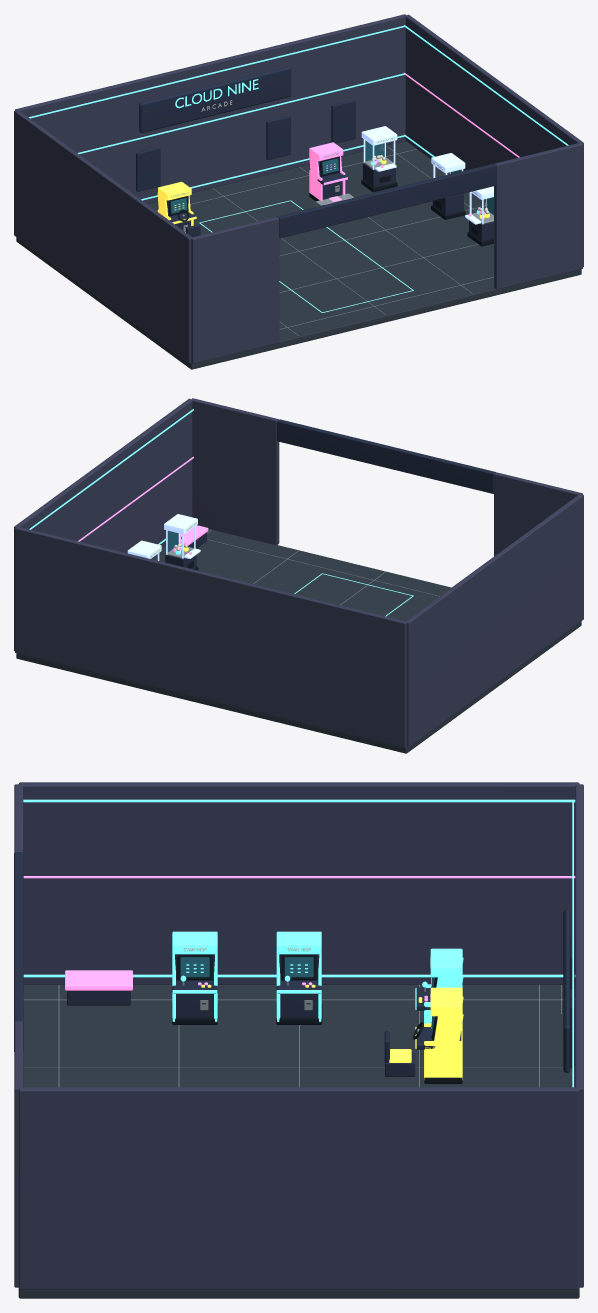
File: arcade-environment.glb
3 renders of one model, top to bottom at view 1: azimuth 30°, elevation 25°; view 2: azimuth 150°, elevation 25°; view 3: azimuth 270°, elevation 25°, orthographic. The views are drawn at different scales.
Visible parts, largest first — view 1: Back wall, Floor, Left wall, Right wall, Entrance return, Entrance return.001, Entrance header, Back sign panel, Acoustic wall panel.001, Acoustic wall panel.002, Acoustic wall panel.003, Back light strip.002 (+5 smaller); view 2: Back wall, Left wall, Floor, Right wall, Entrance return.001, Entrance header, Entrance return, Header.002; view 3: Right wall, Left wall, Floor, Back wall, Side light strip.004, Entrance header, Entrance return.001, Side light strip.002, Bench cushion, Side light strip, Side lower.003, Back sign panel (+10 smaller).
Boxes of the visible parts, x1,y1,x2,y2 form: Back wall: [15, 14, 406, 203]; Floor: [16, 141, 581, 369]; Left wall: [14, 110, 192, 363]; Right wall: [405, 14, 583, 267]; Entrance return: [191, 216, 279, 363]; Entrance return.001: [494, 143, 582, 289]; Entrance header: [277, 163, 496, 238]; Back sign panel: [139, 67, 291, 132]; Acoustic wall panel.001: [136, 147, 160, 191]; Acoustic wall panel.002: [266, 115, 290, 159]; Acoustic wall panel.003: [331, 99, 355, 143]; Back light strip.002: [29, 25, 404, 118]; Back wall: [15, 527, 406, 747]; Left wall: [405, 494, 583, 747]; Floor: [16, 529, 581, 753]; Right wall: [14, 398, 192, 651]; Entrance return.001: [191, 398, 279, 545]; Entrance header: [277, 419, 495, 493]; Entrance return: [494, 472, 582, 556]; Header.002: [164, 514, 197, 534]; Right wall: [18, 1087, 579, 1289]; Left wall: [19, 782, 579, 984]; Floor: [18, 984, 579, 1298]; Back wall: [575, 784, 583, 1287]; Side light strip.004: [23, 799, 575, 802]; Entrance header: [14, 852, 23, 1051]; Entrance return.001: [14, 1021, 23, 1287]; Side light strip.002: [23, 876, 575, 878]; Bench cushion: [65, 970, 132, 990]; Side light strip: [23, 974, 575, 977]; Side lower.003: [424, 1041, 462, 1079]; Back sign panel: [563, 909, 570, 1072].
Bounding box in the file's own units: 18.22 × 5.8 × 14.23.
